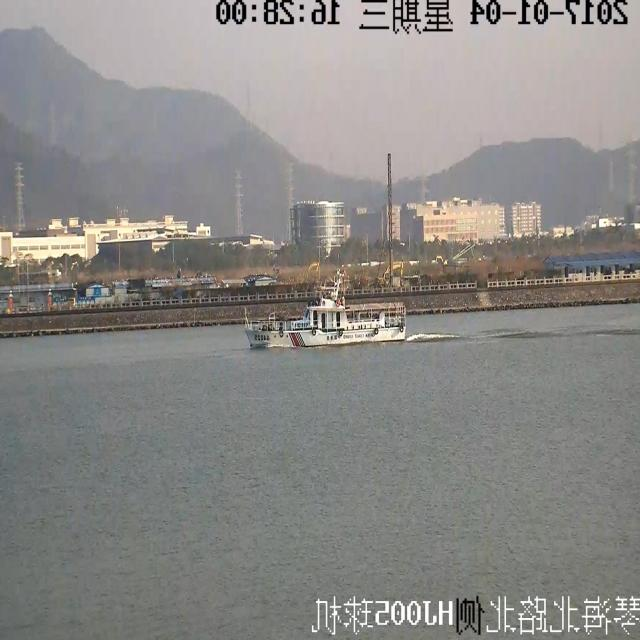houseboat: (239, 275, 416, 365)
